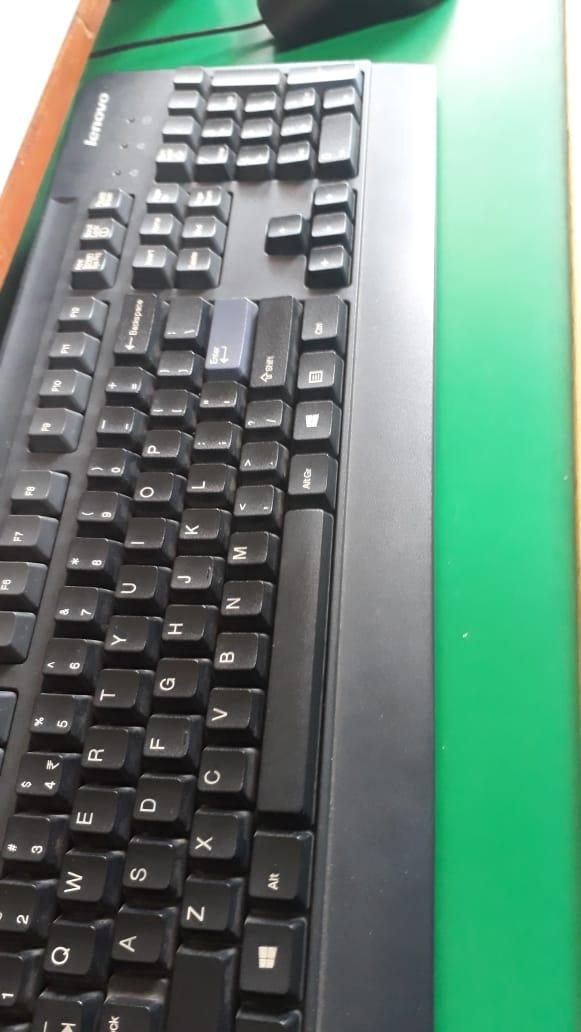keyboard: (3, 48, 479, 1032)
